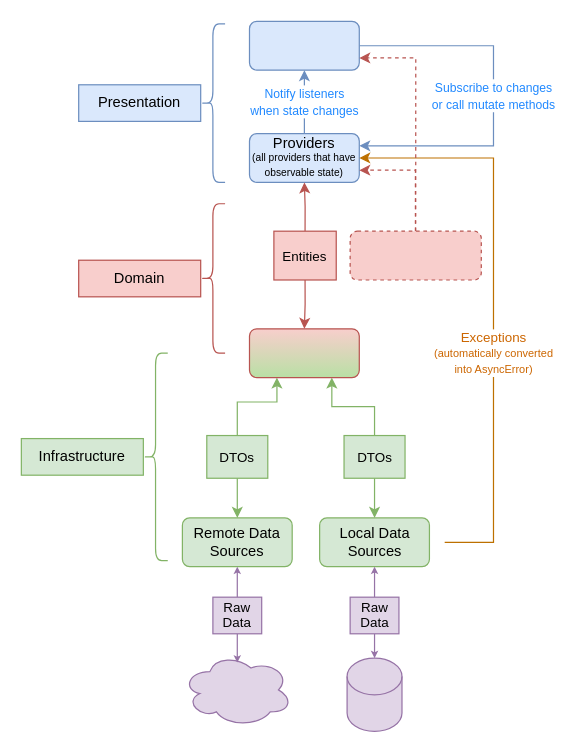
Some shapes in this 576 by 753 pixel diagram are drawn without their labels. Each missing label, with the centre of its shape:
API: (x=236, y=689)
Local DB: (x=374, y=694)
Repositories: (x=303, y=353)
Services (encapsulate presentation and business logic): (x=415, y=255)
Widgets: (x=303, y=45)
